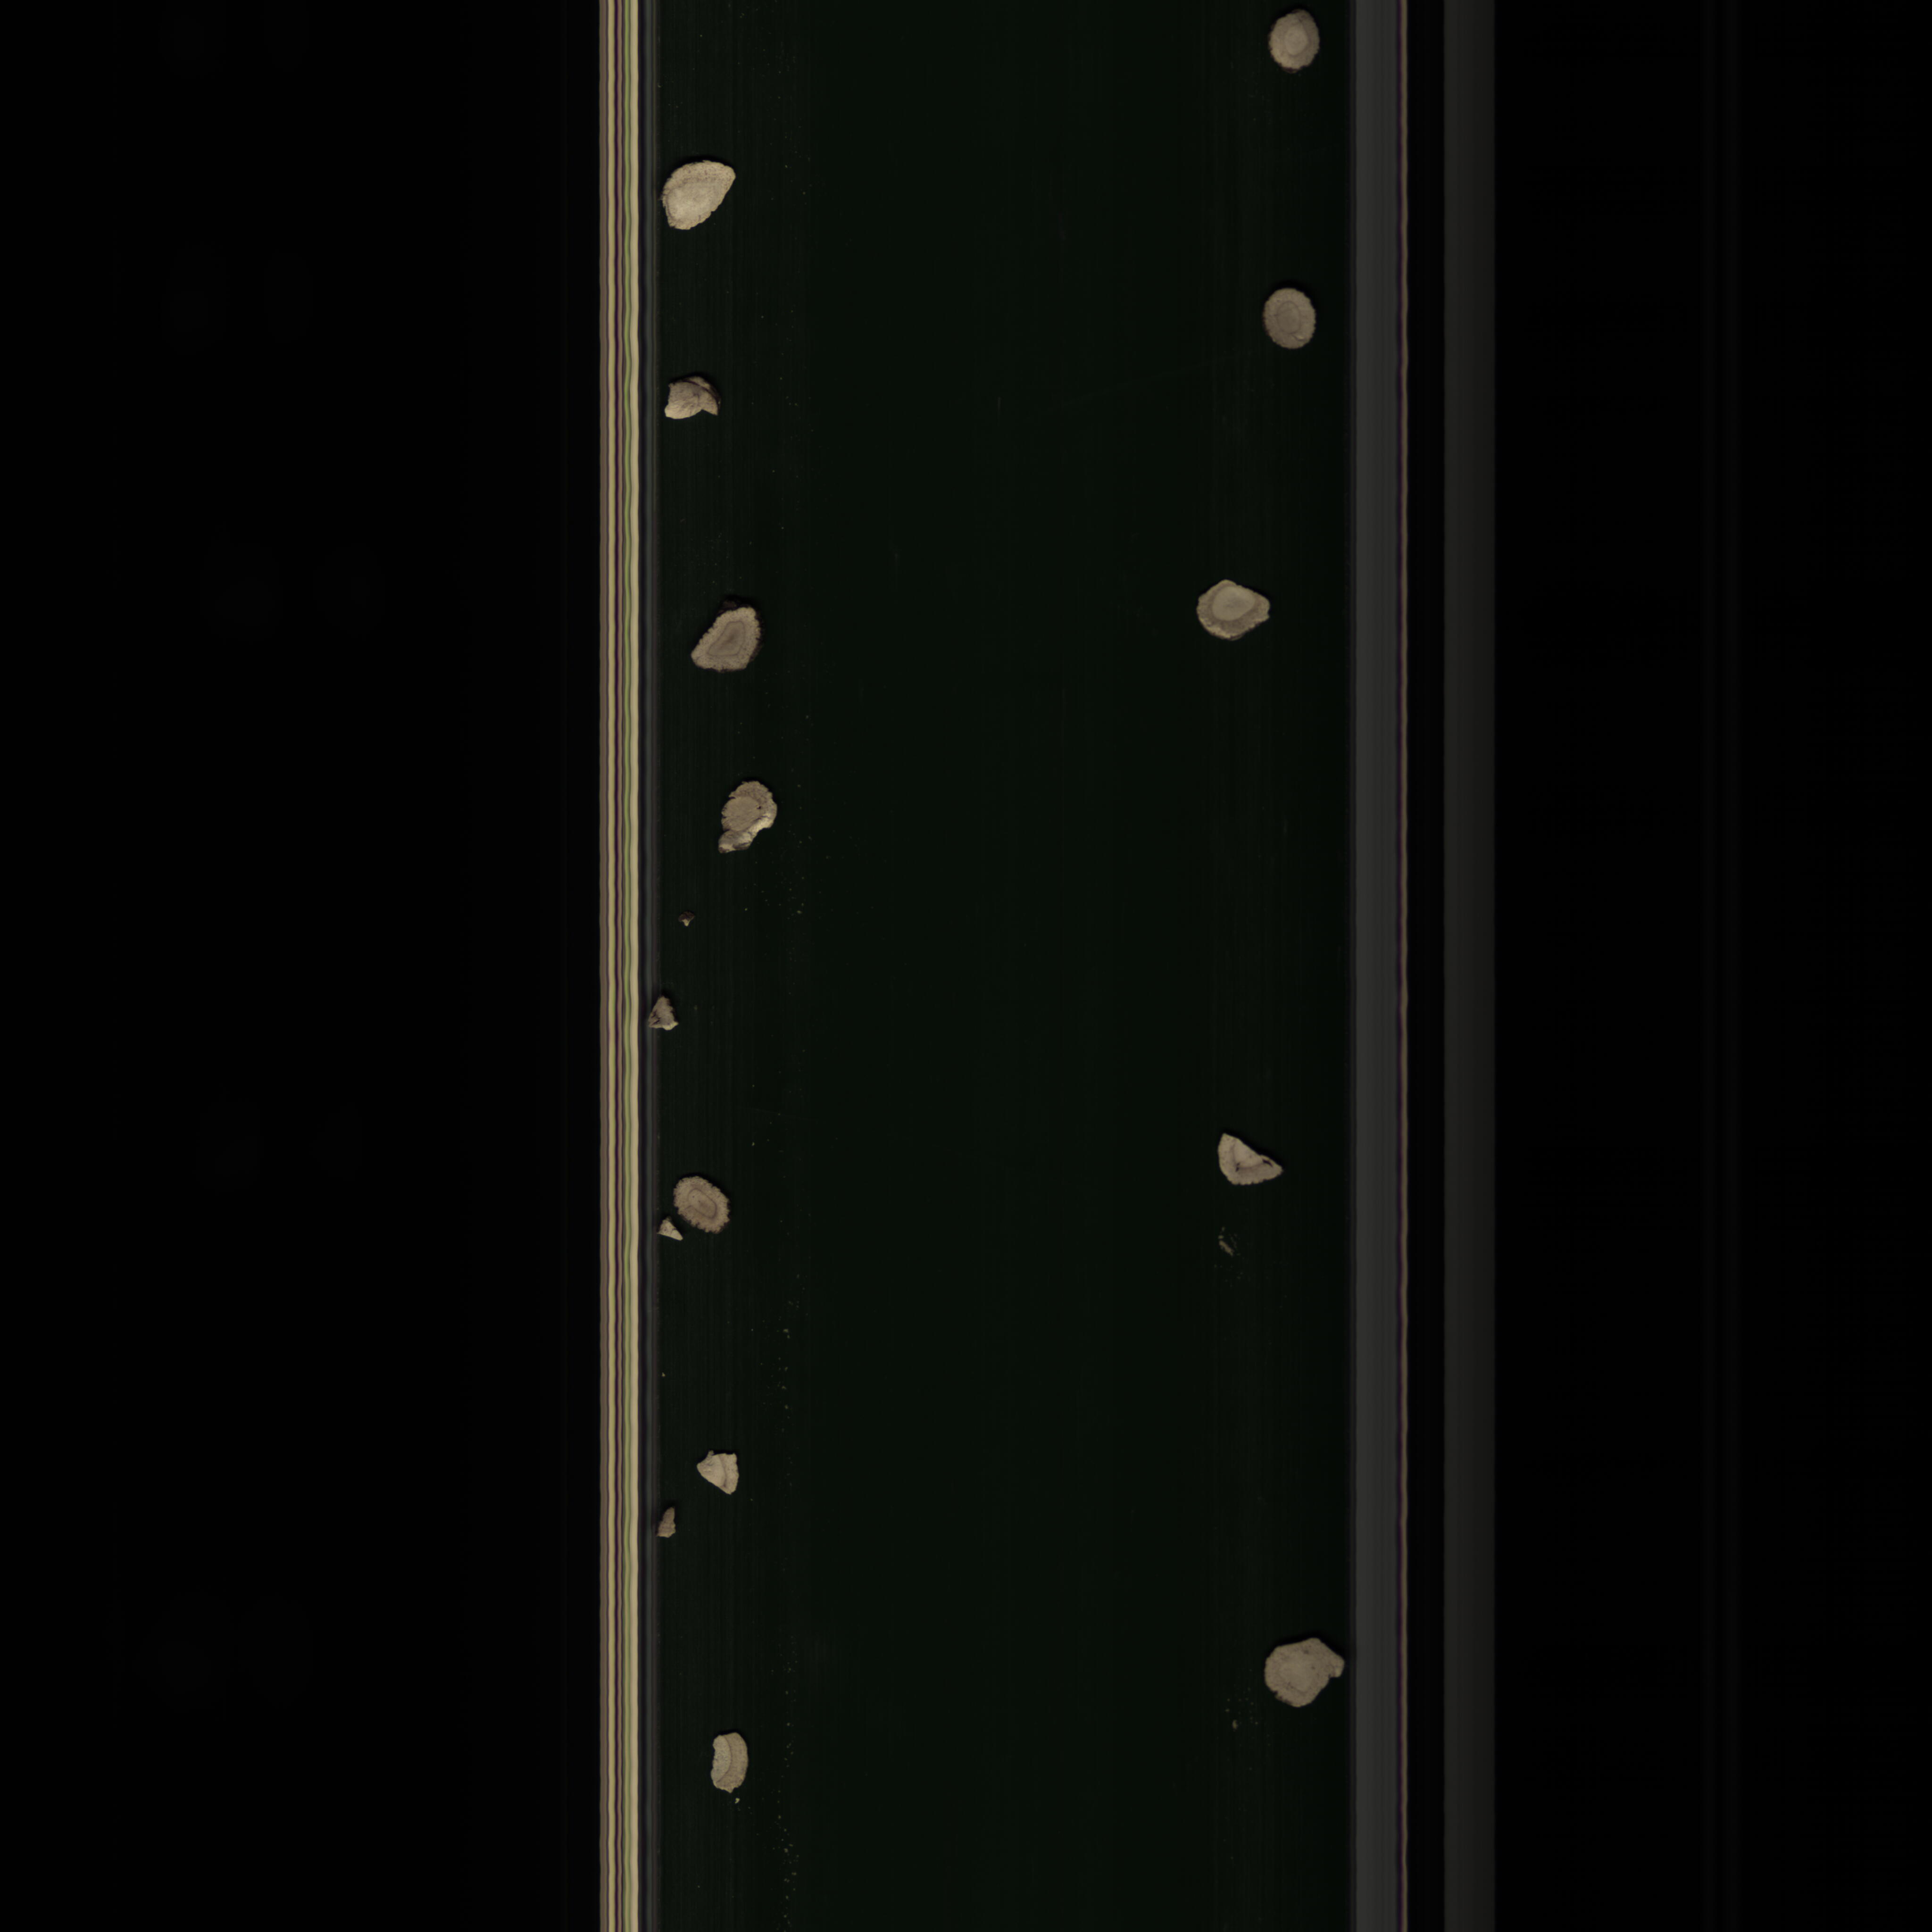bark: (644, 998, 690, 1040)
debris: (706, 771, 782, 869), (695, 1721, 768, 1798), (692, 1435, 761, 1511), (656, 377, 722, 430)
distortion: (655, 159, 741, 244), (678, 609, 771, 678)
moldy: (1208, 1118, 1292, 1205), (1180, 579, 1281, 644), (665, 1166, 747, 1233), (665, 1168, 747, 1233), (1260, 16, 1323, 81)
